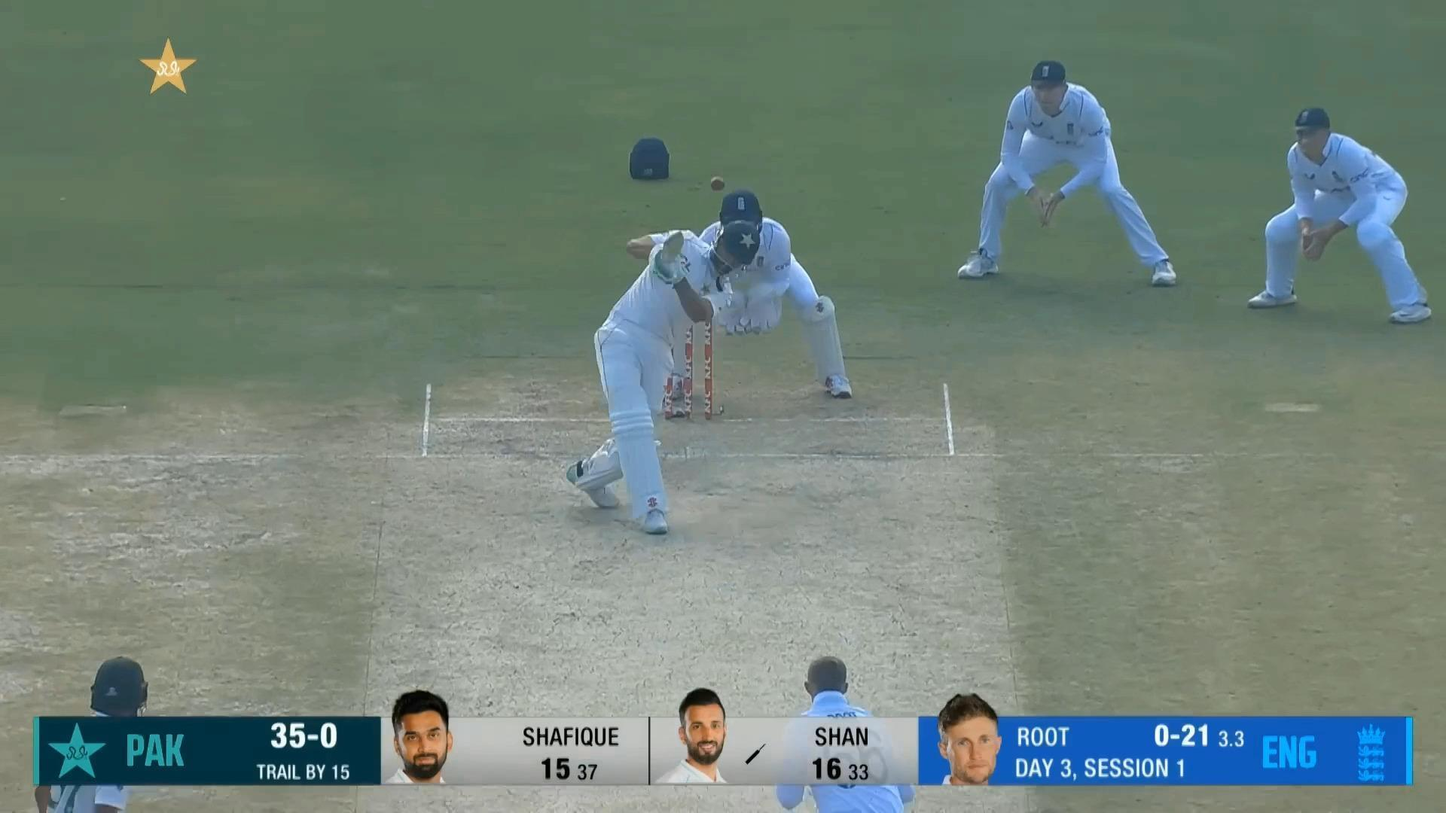BM 1: (566, 219, 761, 536)
BO: (776, 652, 919, 813)
